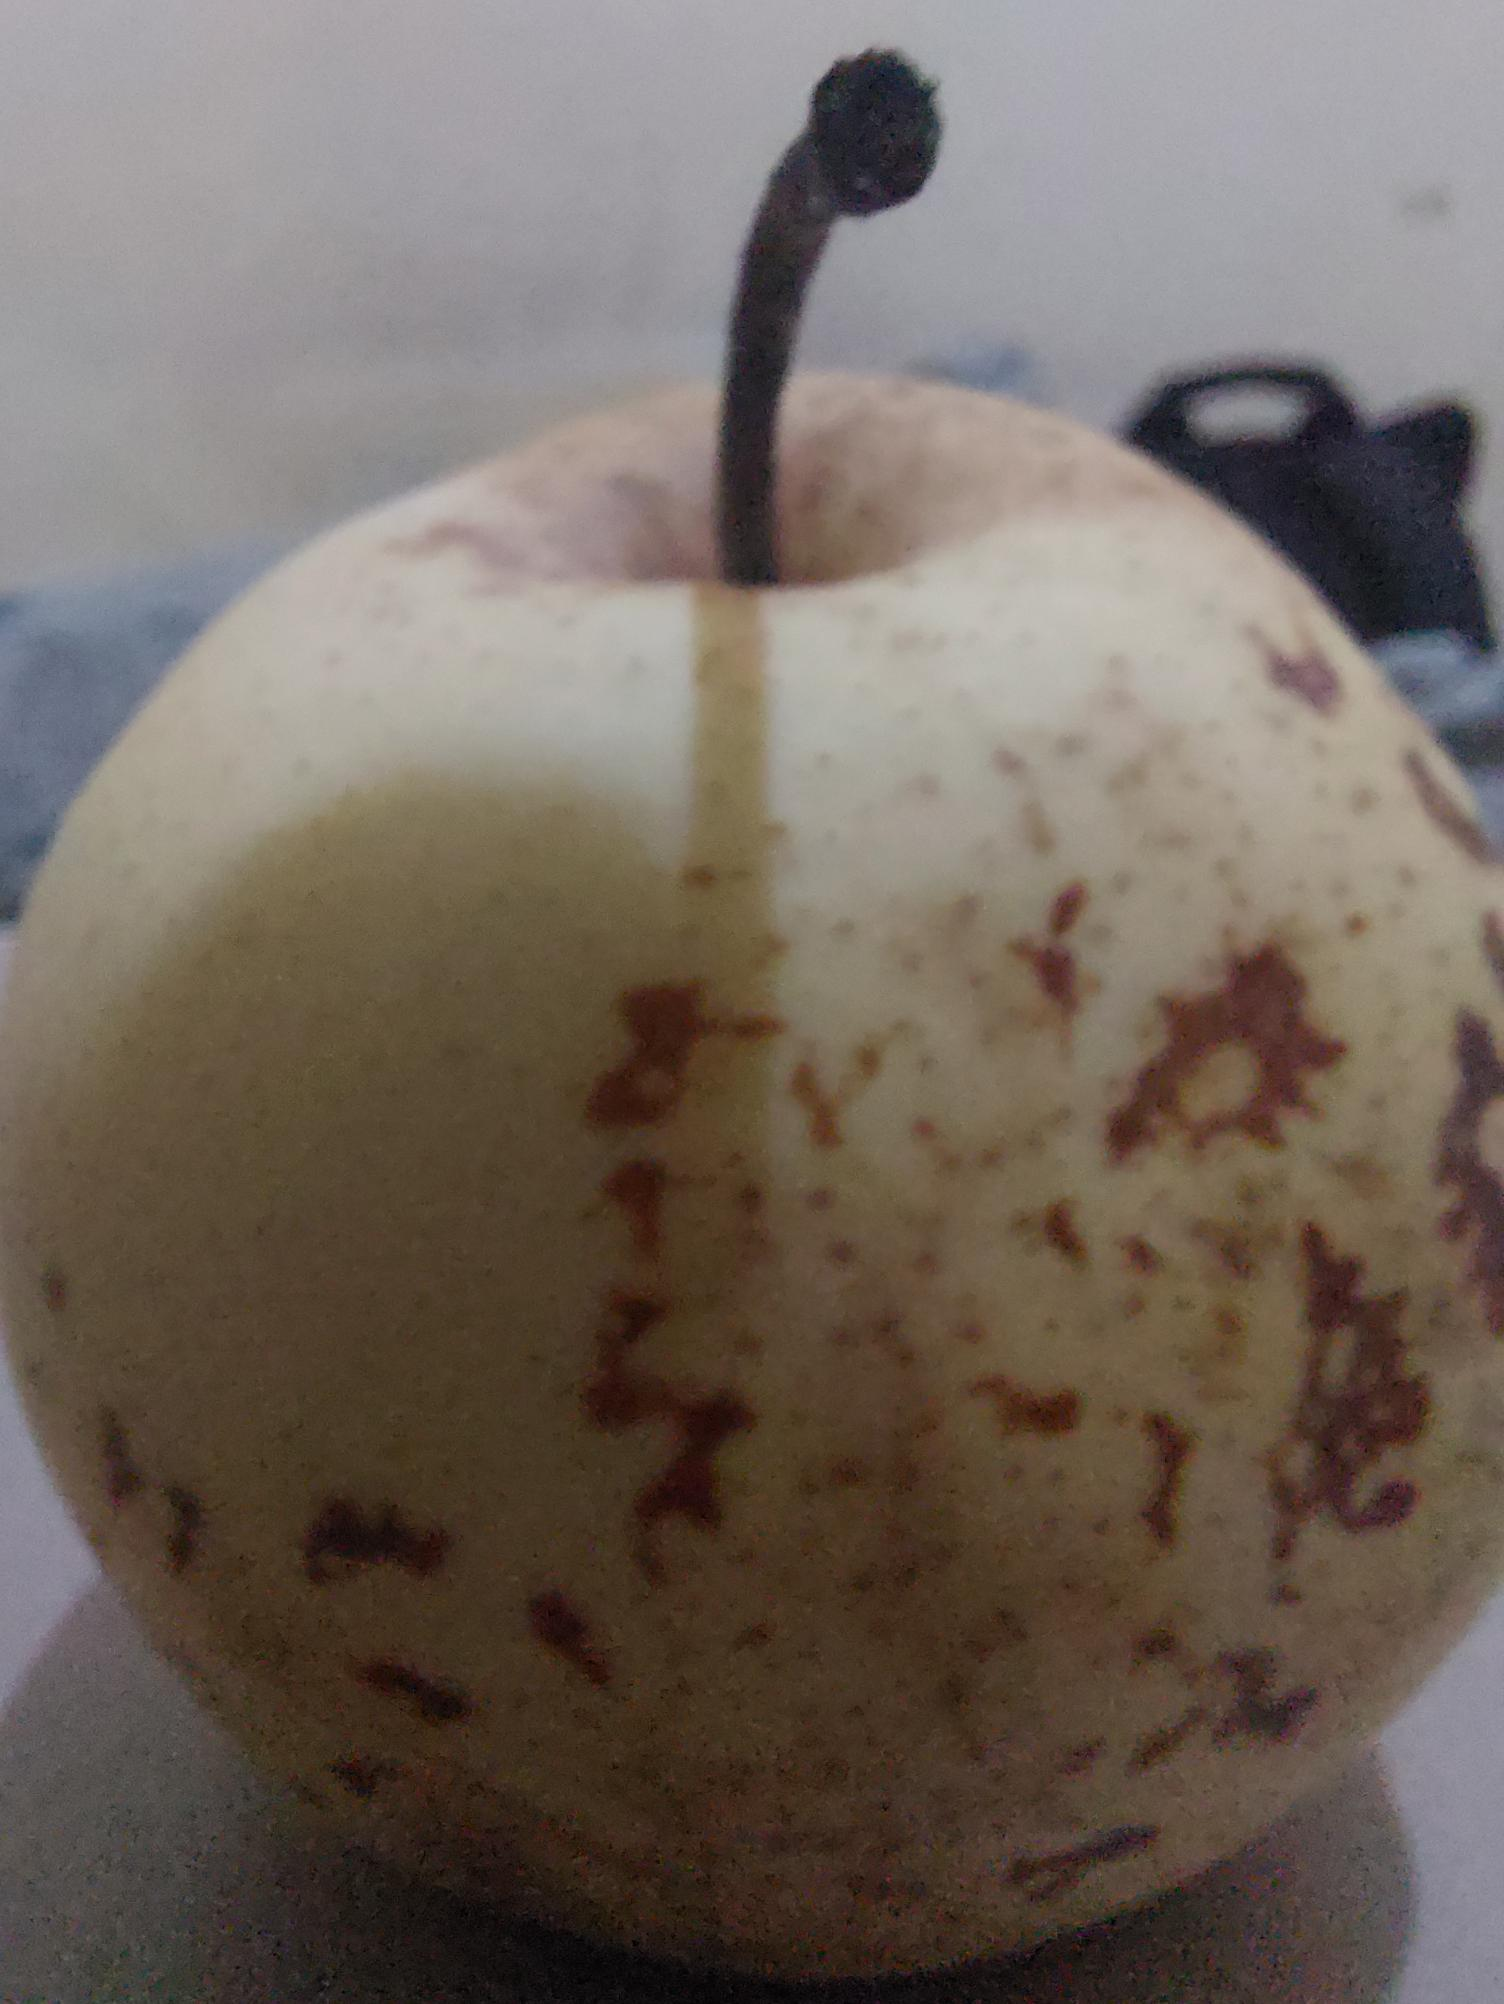Bad Pear: (0, 358, 1504, 1969)
